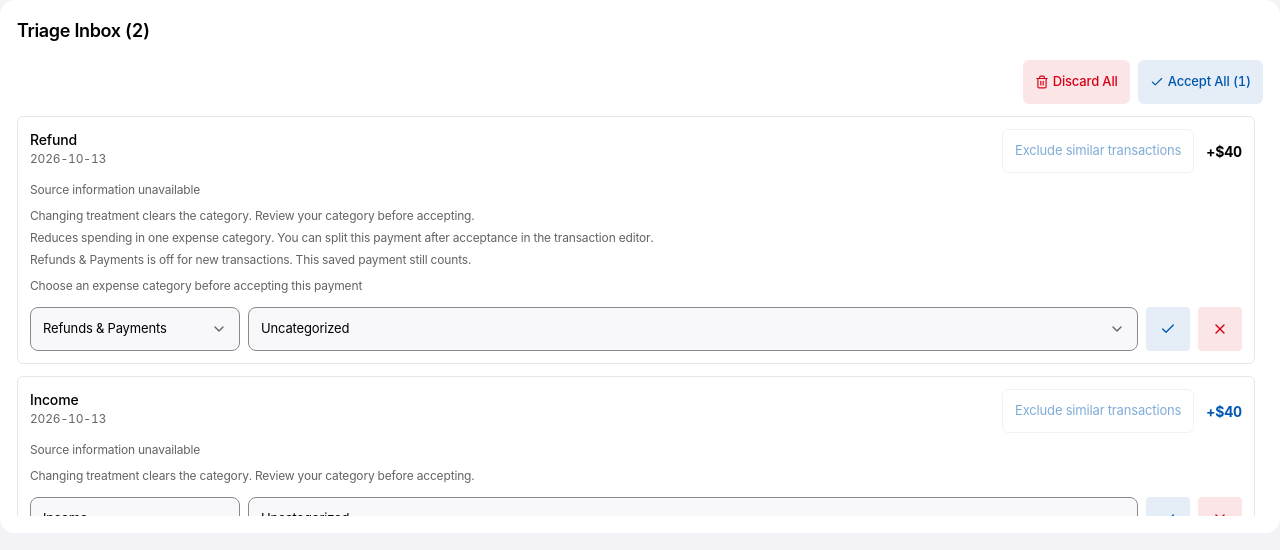
keeps existing refunds editable while disabled and displays incompatible guesses as uncategorized
Earlier steps of the test are not shown.
Click the button with aria-label "Treatment for Refund" at [135, 329], box [30,307,240,351]
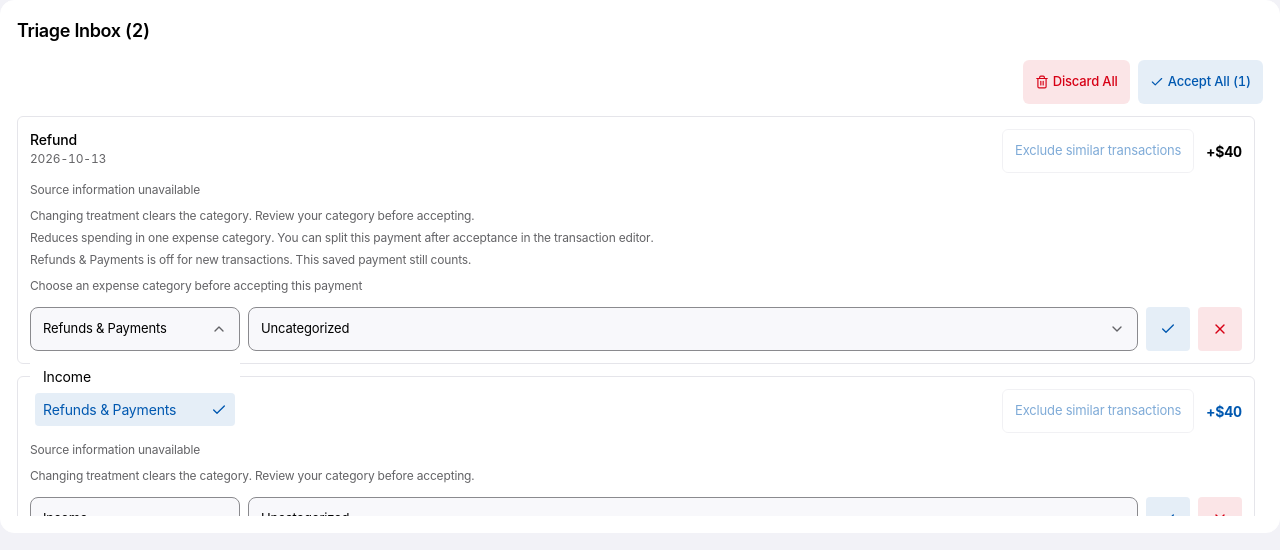
Expected: the option "Refunds & Payments" is shown, [35,393,235,426]
